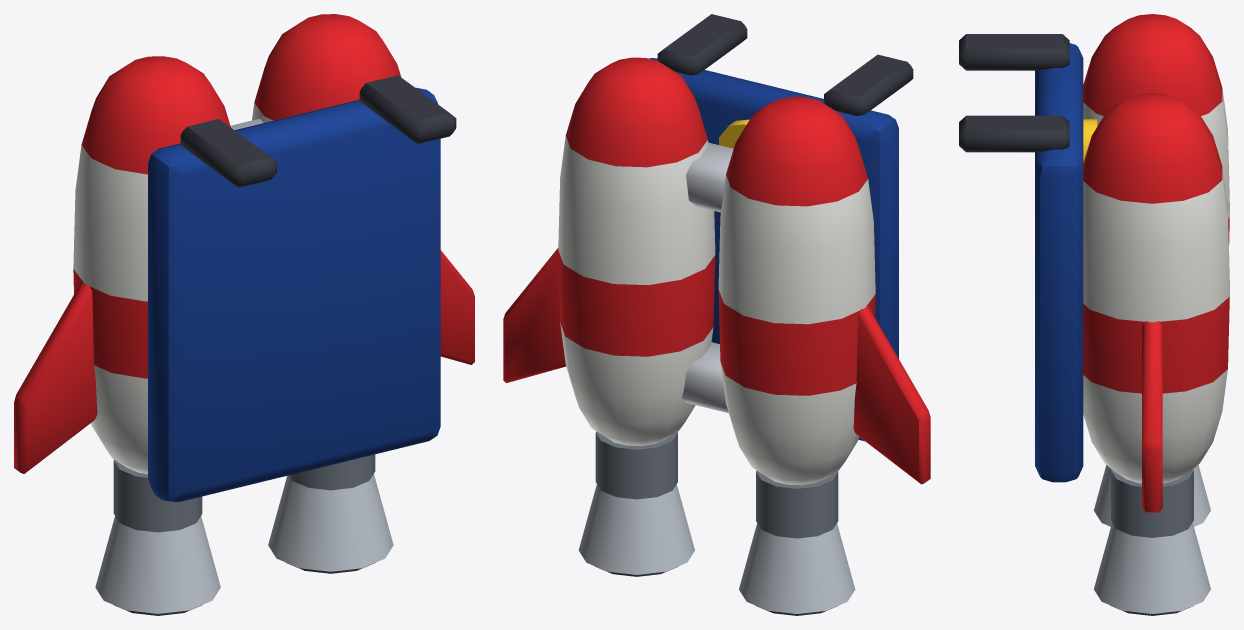
Rendered from Prop_Jetpack.fbx.
The picture shows the model from 3 angles, left to right: view 1: azimuth 30°, elevation 25°; view 2: azimuth 150°, elevation 25°; view 3: azimuth 270°, elevation 25°; orthographic projection. The views are drawn at different scales.
Visible parts, largest first — view 1: Prop_Jetpack; view 2: Prop_Jetpack; view 3: Prop_Jetpack.
Part boxes in pixels (box(x1,y1,x2,y2)): Prop_Jetpack: box(14, 14, 474, 615); Prop_Jetpack: box(503, 14, 930, 615); Prop_Jetpack: box(959, 14, 1229, 615).
Size of the model in its own units: 0.71 by 0.79 by 0.3921.
Materials: 1 (1 with a texture image).
